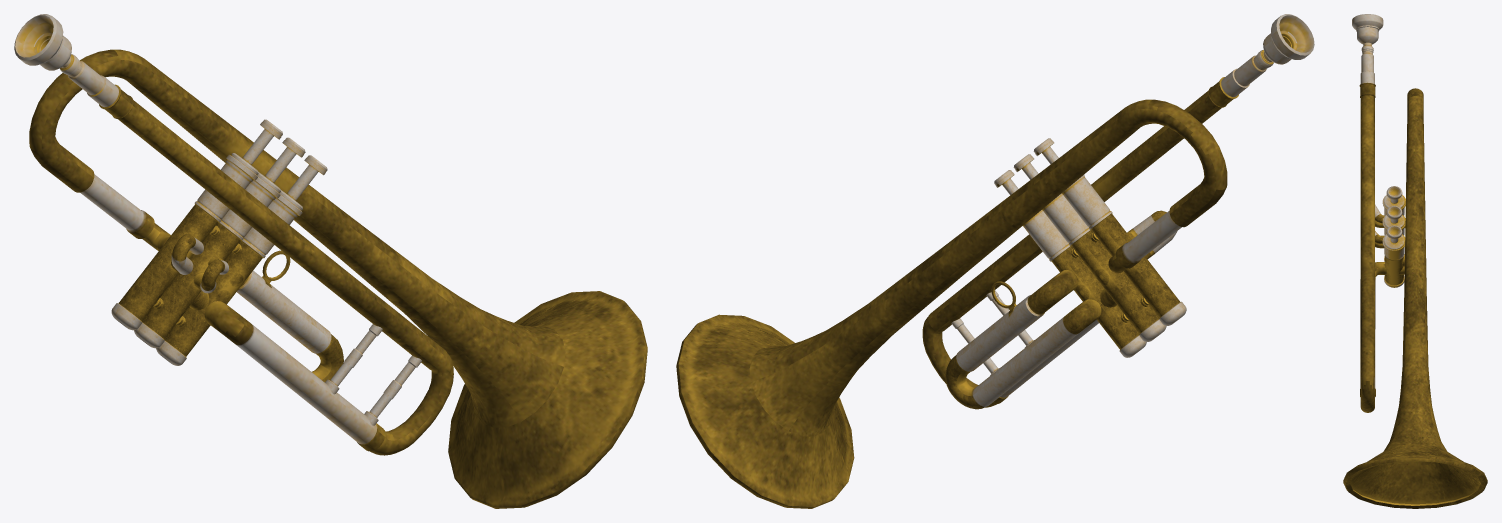
Rendered from Trumpet.glb.
3 views of the same model, side by side, from view 1: azimuth 30°, elevation 25°; view 2: azimuth 150°, elevation 25°; view 3: azimuth 270°, elevation 25° (orthographic). The views are drawn at different scales.
Parts seen in each view (by area): view 1: g; view 2: g; view 3: g.
Part boxes in pixels (<box>): g: <box>14,14,647,508</box>; g: <box>676,14,1314,508</box>; g: <box>1343,14,1487,508</box>.
Size of the model in its own units: 1.72 by 1.59 by 0.5728.
Materials: 1 (1 with a texture image).
